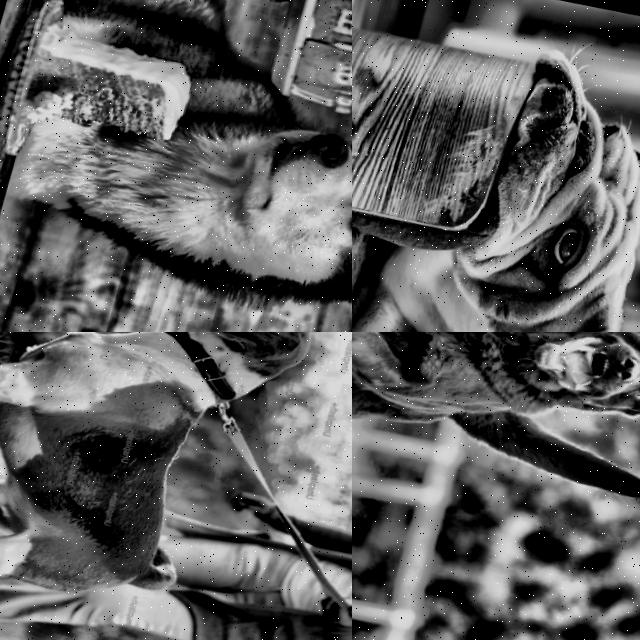beagle: (139, 332, 352, 419)
bulldog: (404, 6, 640, 332)
husky: (165, 88, 352, 332)
rottweiler: (469, 332, 640, 463)
